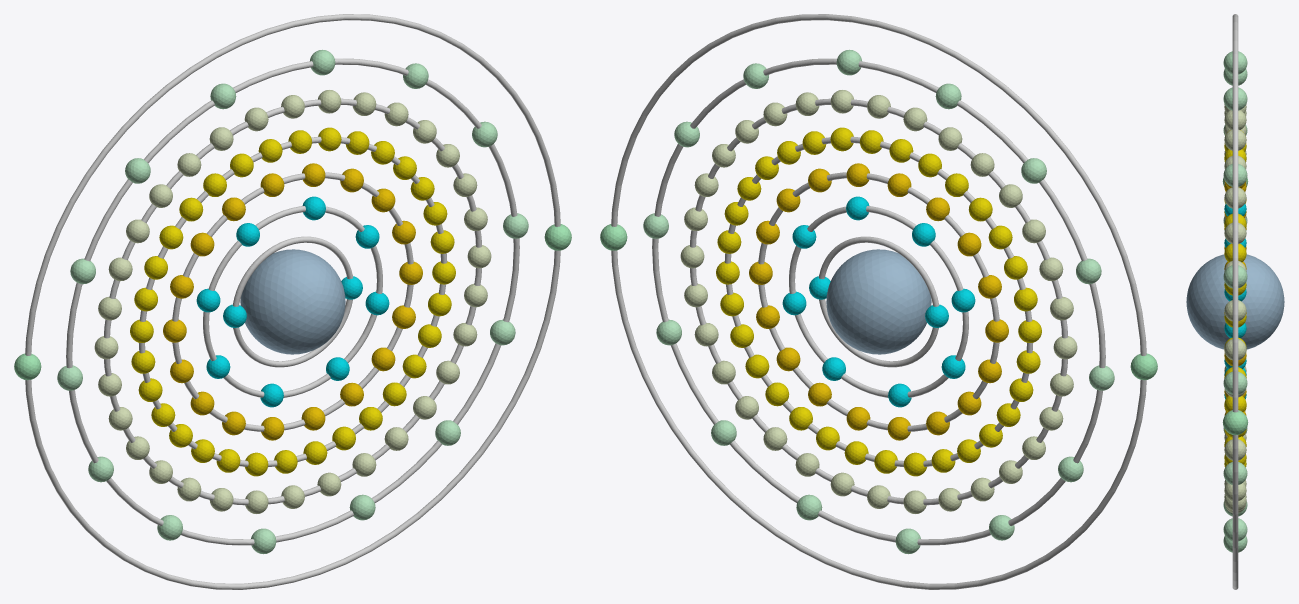
3 renders of one model, left to right at view 1: azimuth 30°, elevation 25°; view 2: azimuth 150°, elevation 25°; view 3: azimuth 270°, elevation 25°, orthographic. The views are drawn at different scales.
Visible parts, largest first — view 1: world; view 2: world; view 3: world.
Boxes of the visible parts, left/top/right/bottom form: world: left=14, top=14, right=571, bottom=589; world: left=600, top=14, right=1157, bottom=589; world: left=1186, top=14, right=1284, bottom=589.
Size of the model in its own units: 2.67 by 2.59 by 0.44.
